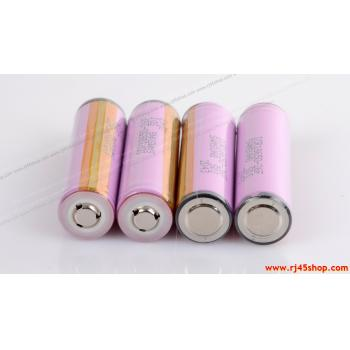Battery: (55, 96, 127, 241), (115, 95, 175, 246), (233, 100, 294, 248), (175, 100, 234, 245)
